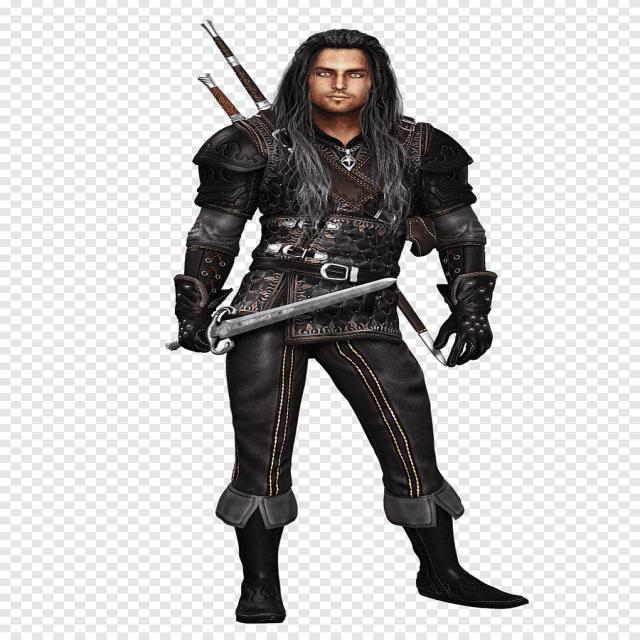sword: (166, 274, 402, 352)
